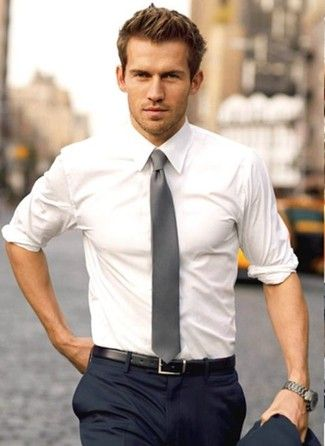C_shirt: (8, 119, 299, 363)
F_belt: (85, 342, 239, 378)
F_dress pants: (74, 346, 251, 443)
F_tie: (143, 147, 196, 359)
